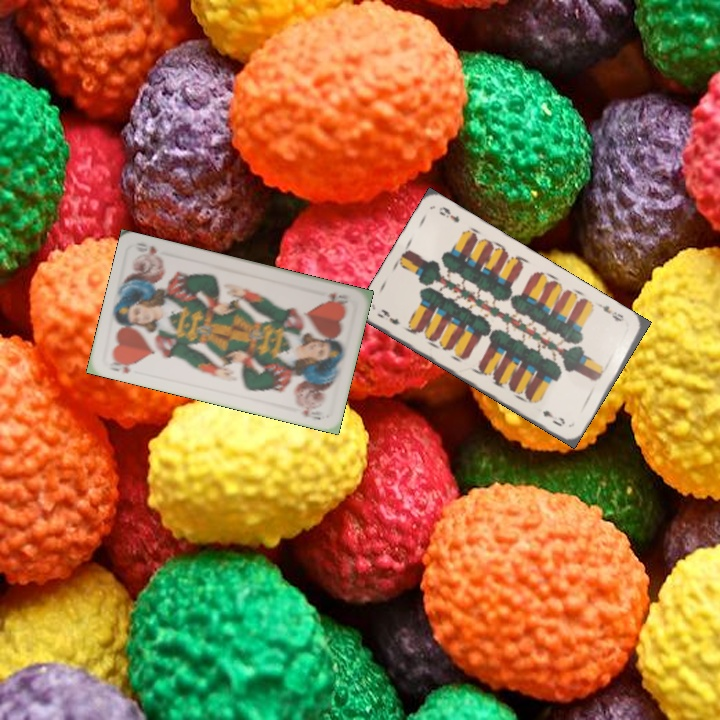E9: (595, 300, 627, 324), (373, 305, 403, 327)
HO: (105, 354, 139, 376), (323, 288, 353, 307)
